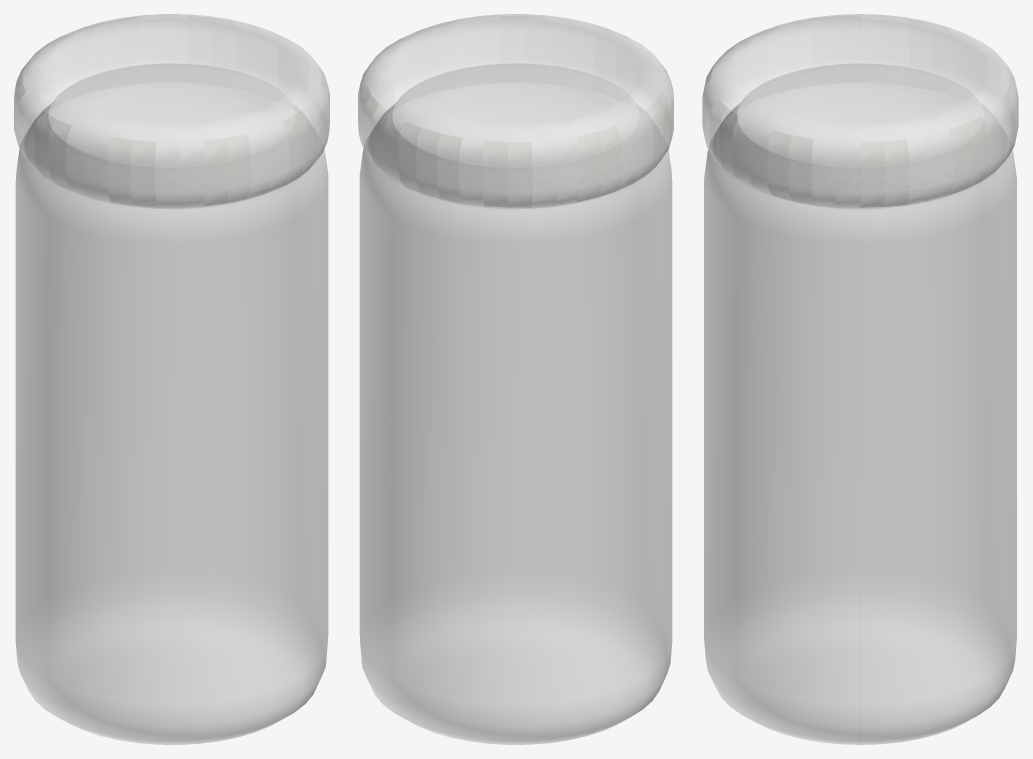
The model's file is kav3_2.glb.
3 views of the same model, side by side, from view 1: azimuth 30°, elevation 25°; view 2: azimuth 150°, elevation 25°; view 3: azimuth 270°, elevation 25° (orthographic).
Visible parts, largest first — view 1: kav3_2; view 2: kav3_2; view 3: kav3_2.
Boxes of the visible parts, <box> form: kav3_2: <box>14,14,329,744</box>; kav3_2: <box>358,14,673,744</box>; kav3_2: <box>702,14,1018,744</box>.
Size of the model in its own units: 1.43 by 3.1 by 1.43.
Materials: 1 (1 with a texture image).
